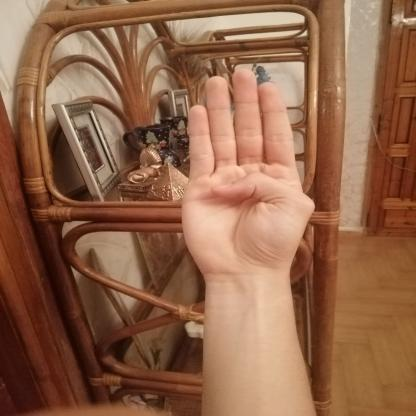KAAF: (165, 60, 331, 291)
